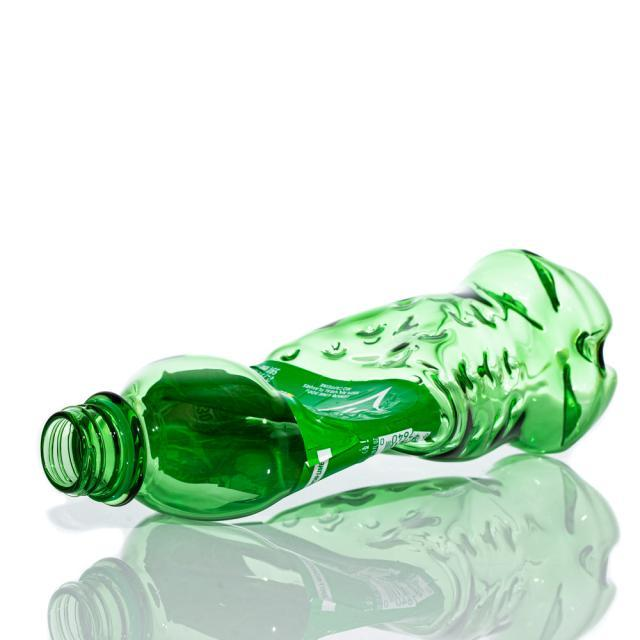Plastic: (38, 250, 620, 529)
